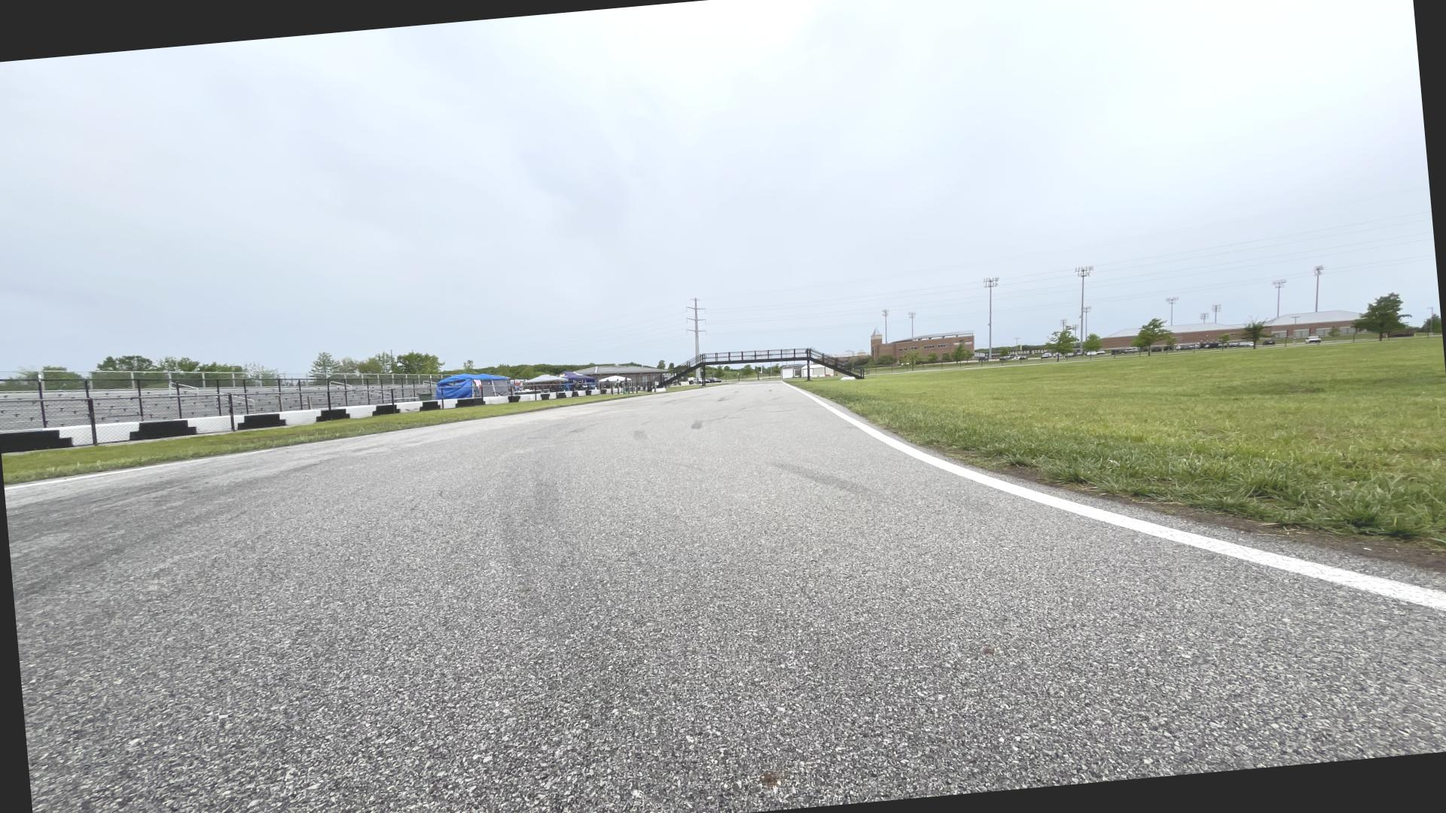white-line: (780, 382, 1445, 616), (5, 420, 477, 490)
